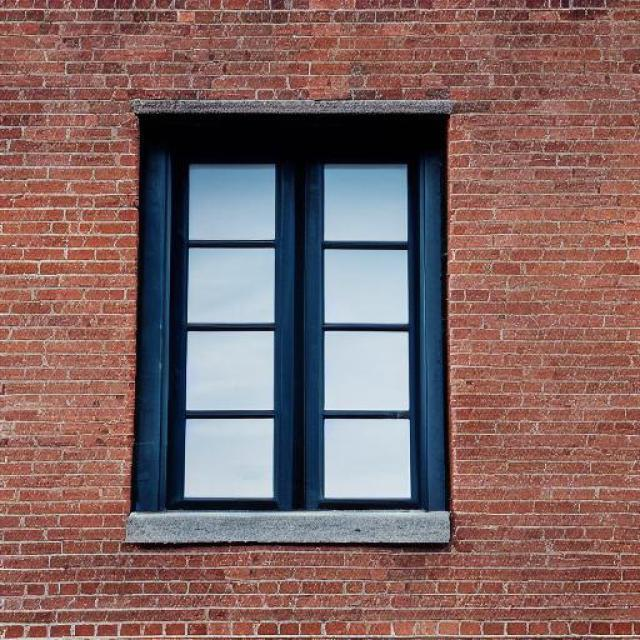window: (138, 116, 448, 508)
